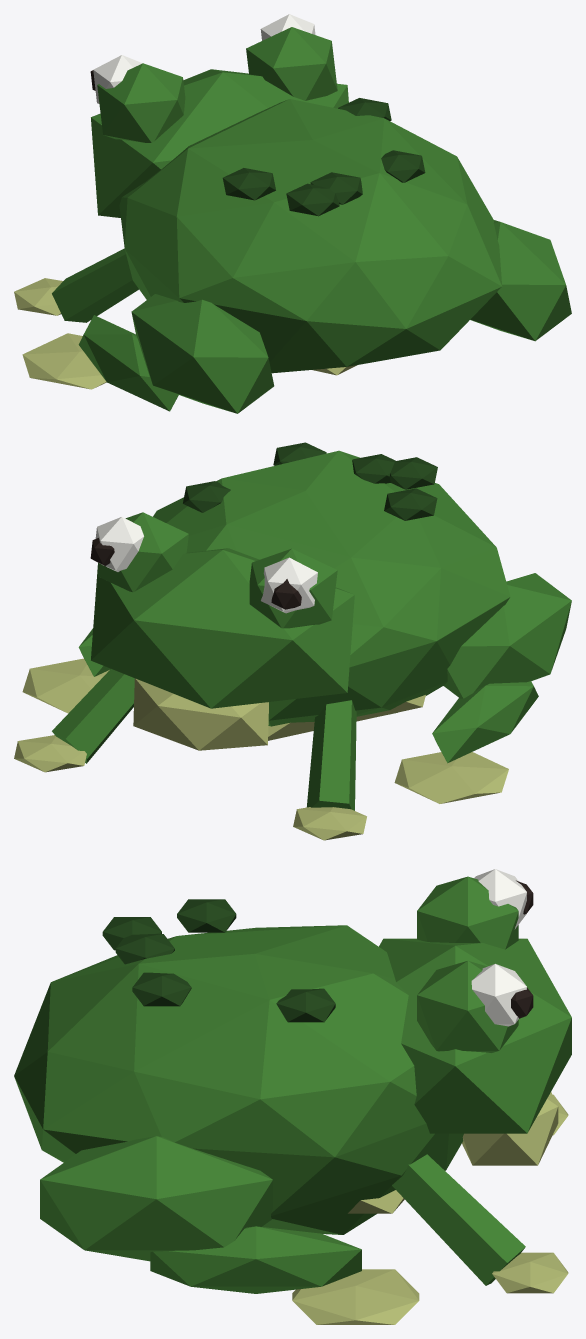
The model's file is sm_env_animal_frog.glb.
3 views of the same model, one above another, from view 1: azimuth 30°, elevation 25°; view 2: azimuth 150°, elevation 25°; view 3: azimuth 270°, elevation 25° (orthographic). The views are drawn at different scales.
Visible parts, largest first — view 1: Body, BackThigh, Head, BackThigh.001, EyeBump, EyeBump.001, BackShin, FrontLeg, BackFoot, Spot.002, Spot, FrontFoot (+5 smaller); view 2: Body, Head, BackThigh, ThroatSac, BackShin, FrontLeg, BackFoot, FrontLeg.001, EyeBump.001, EyeBump, BackFoot.001, FrontFoot (+10 smaller); view 3: Body, BackThigh.001, Head, BackShin.001, FrontLeg.001, EyeBump.001, EyeBump, BackFoot.001, ThroatSac, FrontFoot.001, Eye.001, Spot.002 (+6 smaller).
Part boxes in pixels (box(x1,y1,x2,y2)): Body: box(119, 99, 502, 373); BackThigh: box(131, 294, 274, 413); Head: box(91, 69, 348, 217); BackThigh.001: box(470, 220, 571, 341); EyeBump: box(97, 63, 185, 142); EyeBump.001: box(246, 27, 337, 100); BackShin: box(78, 315, 178, 411); FrontLeg: box(52, 248, 138, 322); BackFoot: box(22, 333, 106, 389); Spot.002: box(222, 168, 275, 200); Spot: box(286, 183, 339, 216); FrontFoot: box(14, 278, 62, 315); Body: box(153, 450, 510, 726); Head: box(91, 548, 354, 708); BackThigh: box(443, 573, 571, 698); ThroatSac: box(133, 678, 268, 750); BackShin: box(432, 681, 538, 763); FrontLeg: box(306, 700, 356, 810); BackFoot: box(394, 752, 508, 803); FrontLeg.001: box(52, 669, 134, 763); EyeBump.001: box(97, 512, 188, 592); EyeBump: box(249, 548, 337, 628); BackFoot.001: box(22, 658, 109, 713); FrontFoot: box(293, 807, 366, 840); Body: box(14, 925, 463, 1234); BackThigh.001: box(40, 1136, 272, 1261); Head: box(379, 938, 571, 1133); BackShin.001: box(150, 1226, 361, 1293); FrontLeg.001: box(392, 1154, 525, 1285); EyeBump.001: box(417, 961, 518, 1052); EyeBump: box(417, 876, 518, 949); BackFoot.001: box(292, 1269, 419, 1324); ThroatSac: box(462, 1092, 558, 1165); FrontFoot.001: box(492, 1252, 568, 1293); Eye.001: box(471, 963, 526, 1026); Spot.002: box(177, 899, 236, 932).
Bounding box in the file's own units: 0.2537 × 0.1323 × 0.224.
